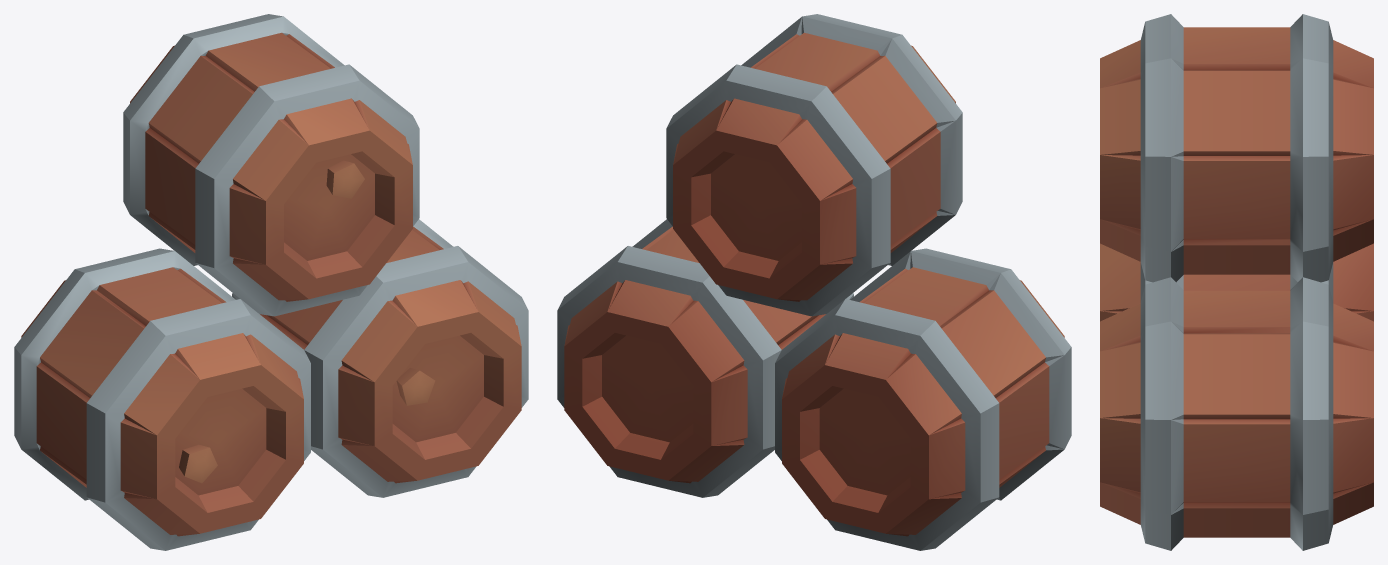
The model's file is barrel_small_stack.gltf.
The picture shows the model from 3 angles, left to right: view 1: azimuth 30°, elevation 25°; view 2: azimuth 150°, elevation 25°; view 3: azimuth 270°, elevation 25°; orthographic projection.
Parts seen in each view (by area): view 1: barrel_small_stack; view 2: barrel_small_stack; view 3: barrel_small_stack.
Boxes of the visible parts, <box> form: barrel_small_stack: <box>14,14,528,550</box>; barrel_small_stack: <box>557,14,1071,550</box>; barrel_small_stack: <box>1100,14,1373,550</box>.
Size of the model in its own units: 1.85 by 1.77 by 1.
Materials: 1 (1 with a texture image).
